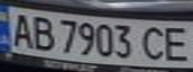0: (93, 20, 115, 57)
3: (112, 21, 139, 60)
7: (54, 17, 78, 54)
9: (75, 19, 96, 56)
A: (6, 10, 36, 48)
B: (27, 14, 57, 52)
C: (139, 24, 172, 62)
E: (160, 24, 193, 63)
